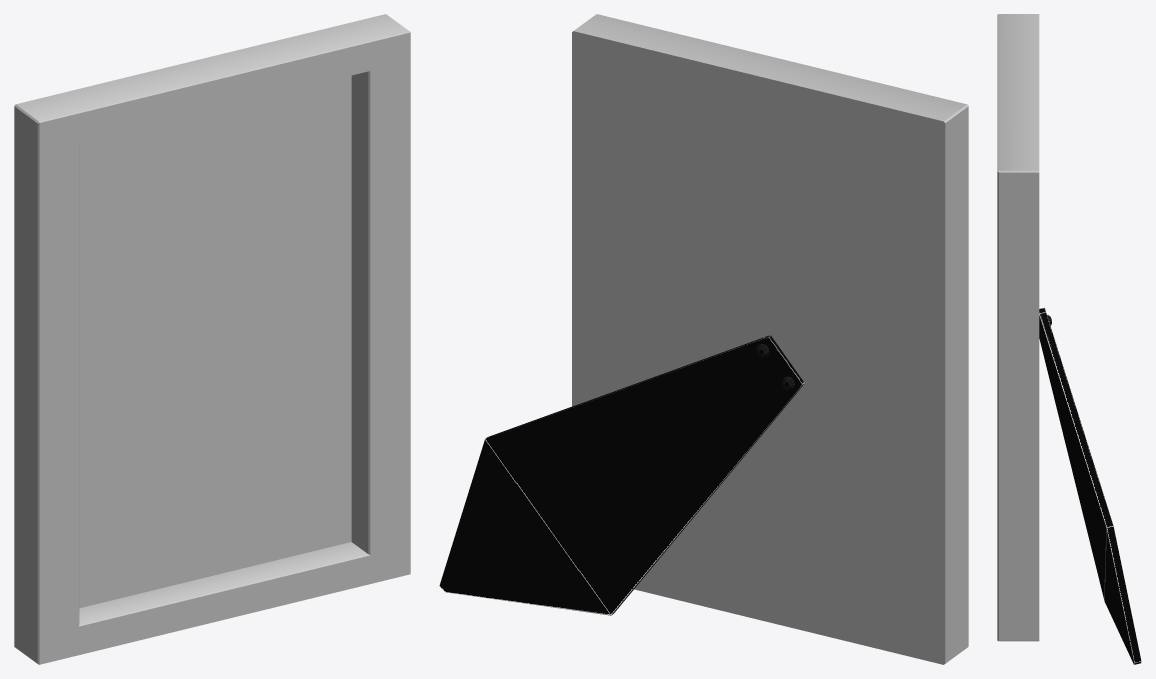
The model's file is Picture Frame.FBX.
3 views of the same model, side by side, from view 1: azimuth 30°, elevation 25°; view 2: azimuth 150°, elevation 25°; view 3: azimuth 270°, elevation 25° (orthographic). The views are drawn at different scales.
Visible parts, largest first — view 1: Plane002; view 2: Plane002, Box001; view 3: Plane002, Box001.
Boxes of the visible parts, x1=… form: Plane002: x1=14, y1=14, x2=410, y2=664; Plane002: x1=572, y1=14, x2=968, y2=664; Box001: x1=439, y1=335, x2=804, y2=615; Plane002: x1=997, y1=14, x2=1039, y2=641; Box001: x1=1039, y1=307, x2=1141, y2=664.
Size of the model in its own units: 36.43 by 42.2 by 11.71.
